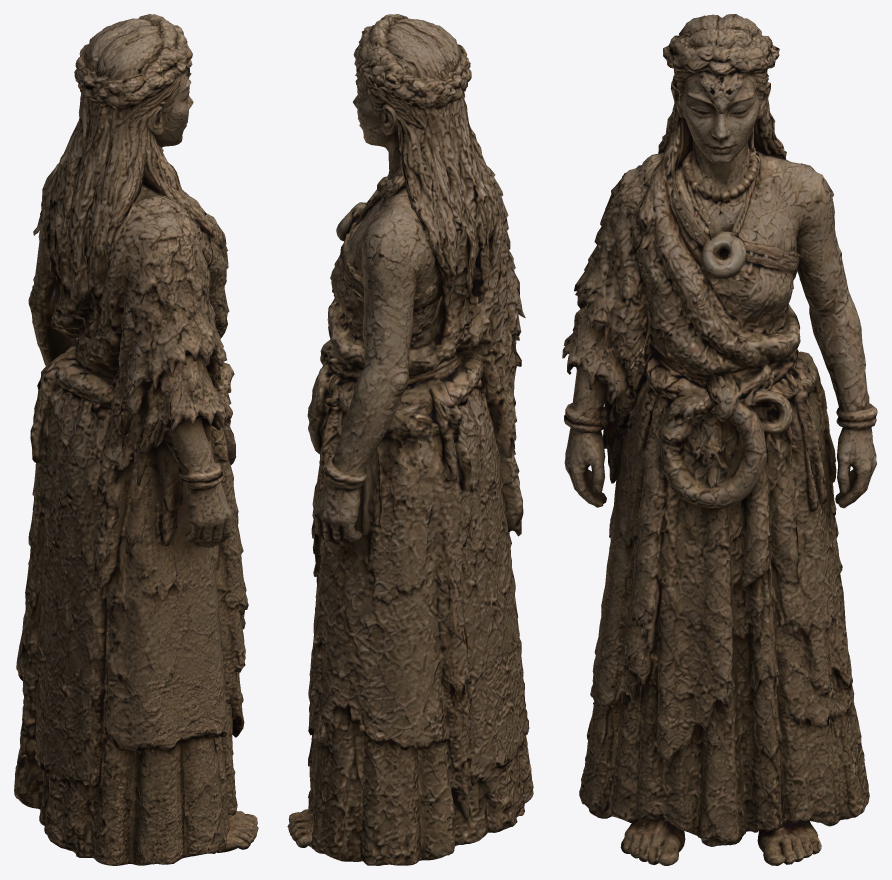
The model's file is goddess_statue_3d_model.fbx.
3 views of the same model, side by side, from view 1: azimuth 30°, elevation 25°; view 2: azimuth 150°, elevation 25°; view 3: azimuth 270°, elevation 25° (orthographic).
Parts seen in each view (by area): view 1: tripo_node_79dcd834; view 2: tripo_node_79dcd834; view 3: tripo_node_79dcd834.
Boxes of the visible parts, <box> form: tripo_node_79dcd834: <box>14,14,258,865</box>; tripo_node_79dcd834: <box>287,14,533,865</box>; tripo_node_79dcd834: <box>562,14,877,865</box>.
Size of the model in its own units: 0.2409 by 0.9799 by 0.3466.
